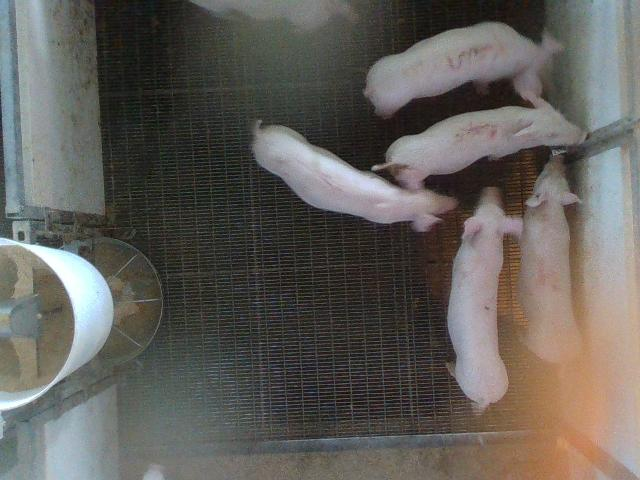pig-3: (364, 22, 562, 117)
pig-4: (516, 154, 582, 362)
pig-5: (372, 102, 586, 190)
